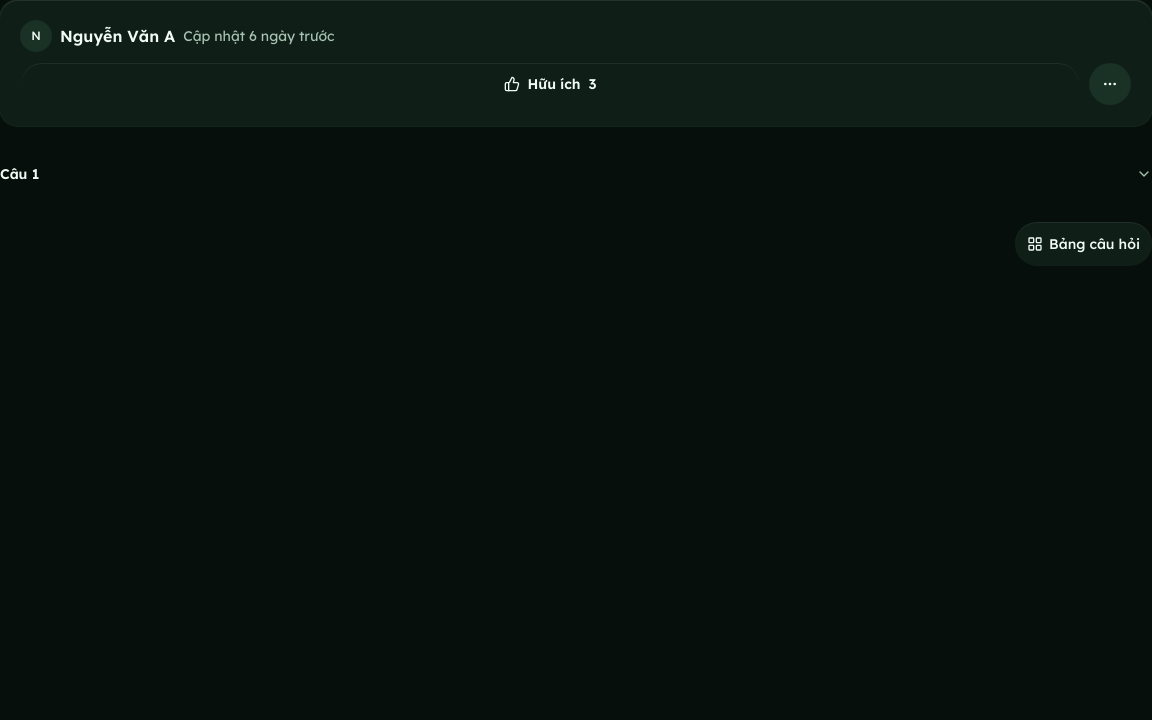
SolutionViewScreen — mount CommentSheet (task 28, Required Test #11) › bấm nút bình luận của một hàng: mở CommentSheet của đúng hàng đó
Click the button "Câu 1" at (20, 174), box x1=0 y1=146 x2=1151 y2=202
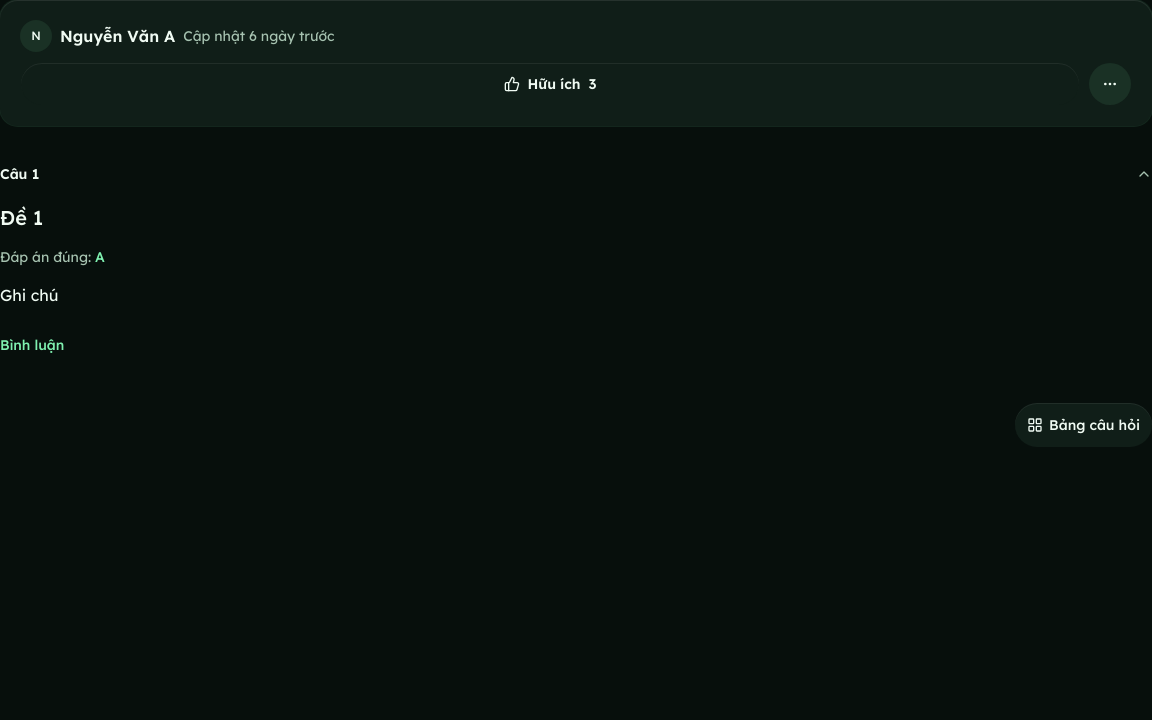
Click the button "Bình luận" at (32, 344), box x1=0 y1=322 x2=64 y2=366
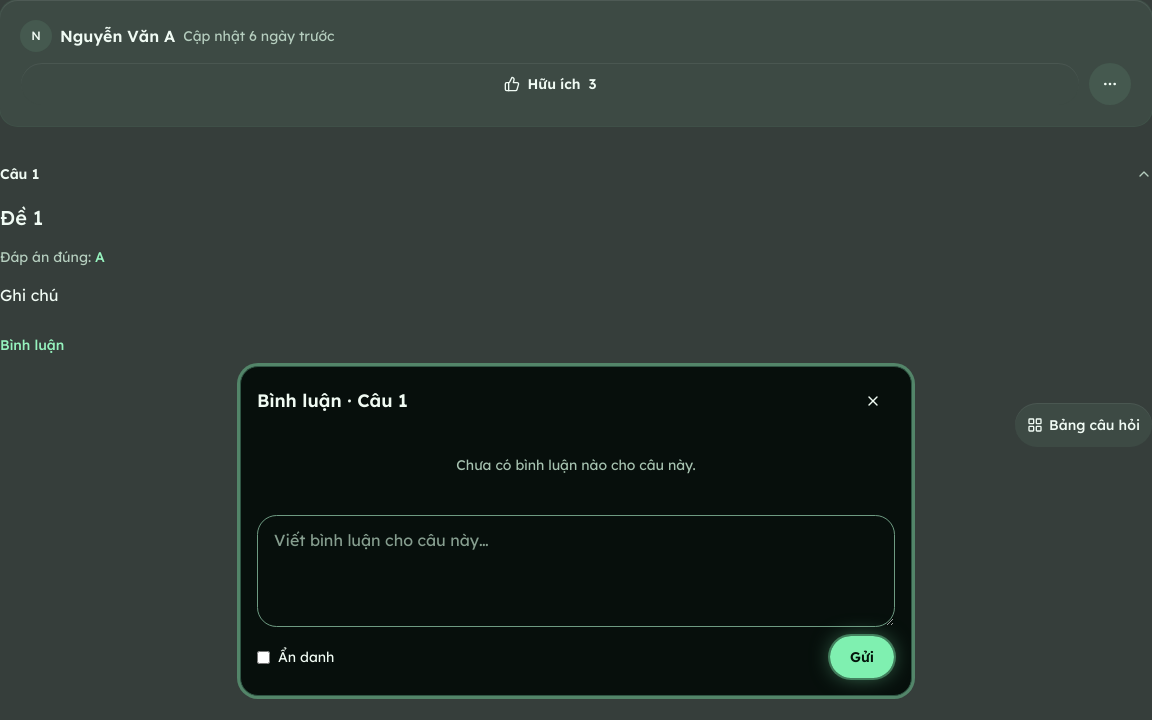
Now the heading "Bình luận · Câu 1" is shown, box x1=257 y1=389 x2=408 y2=412
